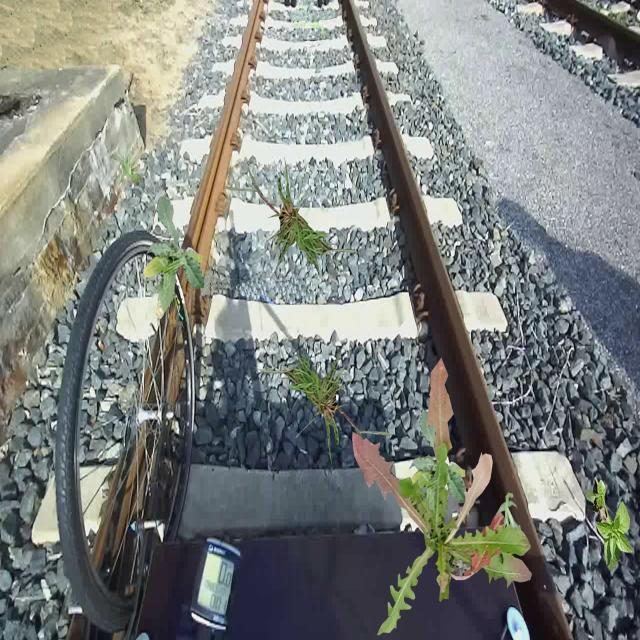Plant: (352, 358, 532, 636), (224, 156, 368, 276), (249, 347, 392, 466), (143, 195, 206, 320), (406, 409, 468, 534), (586, 477, 634, 572), (493, 492, 520, 548), (110, 141, 142, 187)
